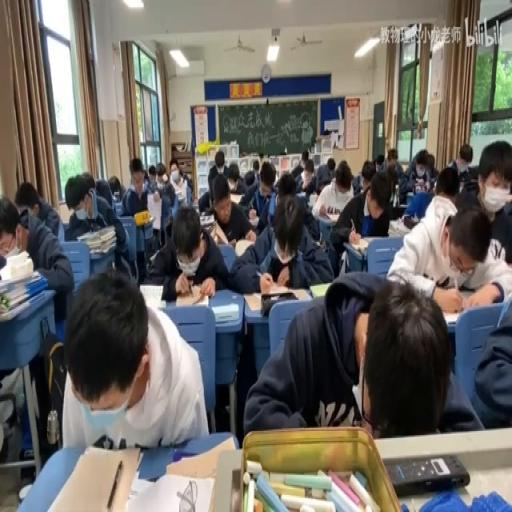calculator: (40, 442, 140, 509), (126, 471, 214, 512), (164, 435, 234, 479), (146, 282, 212, 310), (243, 288, 312, 312), (0, 288, 45, 322), (0, 266, 39, 294), (210, 302, 238, 322), (388, 216, 410, 236), (233, 238, 254, 256), (212, 222, 229, 244), (310, 282, 333, 298), (366, 232, 392, 246), (439, 307, 460, 324), (348, 238, 370, 253), (228, 192, 244, 205), (198, 213, 214, 225), (324, 209, 340, 221), (395, 202, 408, 215), (308, 193, 318, 209), (174, 188, 185, 202), (295, 189, 306, 199), (149, 248, 158, 260), (405, 192, 414, 202)
paper: (244, 268, 478, 436), (2, 184, 93, 460), (384, 192, 510, 311), (64, 171, 129, 283), (329, 168, 392, 273), (469, 283, 510, 427), (120, 154, 162, 263), (202, 174, 256, 248), (14, 179, 60, 236), (400, 146, 438, 204), (434, 165, 460, 199), (153, 161, 173, 203), (382, 151, 404, 186), (298, 151, 316, 189), (94, 176, 114, 206), (208, 151, 227, 179), (275, 171, 296, 196), (359, 159, 375, 191), (459, 170, 479, 194), (258, 164, 274, 192), (457, 142, 472, 165), (81, 171, 96, 192), (227, 164, 239, 186), (317, 176, 330, 196), (181, 169, 192, 192), (169, 158, 180, 179), (426, 152, 436, 172), (350, 174, 360, 194), (146, 165, 156, 183), (374, 154, 385, 170), (244, 170, 254, 186), (326, 158, 335, 173), (252, 158, 259, 173), (142, 169, 149, 182), (301, 149, 308, 161)
person: (384, 452, 470, 495), (92, 432, 123, 448), (112, 189, 118, 201)
